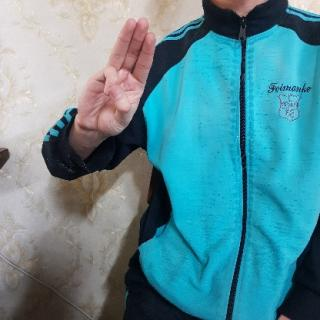THA: (72, 14, 161, 150)
